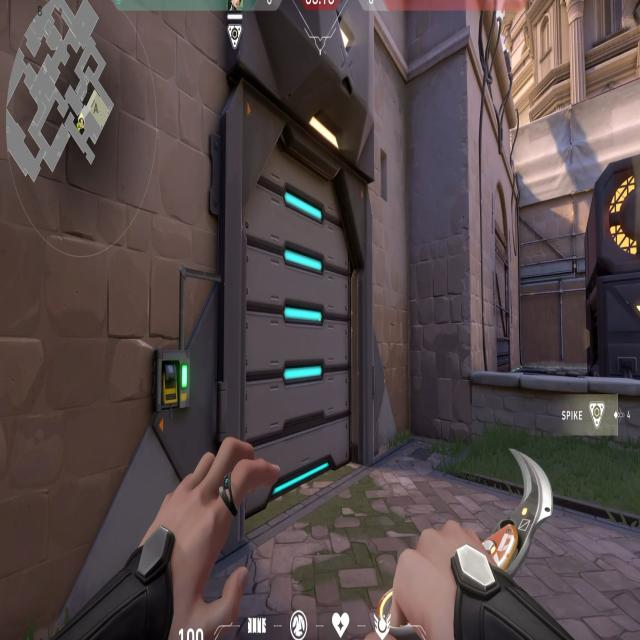A_Door: (218, 36, 393, 529)
